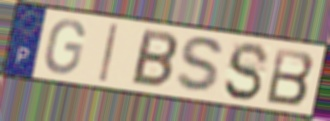B: (128, 27, 180, 90), (264, 45, 316, 107)
G: (42, 18, 87, 76)
I: (97, 21, 121, 84)
S: (173, 35, 227, 97), (221, 40, 272, 103)
